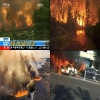fire: (50, 0, 98, 26), (1, 7, 33, 27), (52, 55, 77, 76), (9, 89, 28, 97), (34, 73, 42, 81), (79, 64, 86, 72), (37, 67, 39, 70)
